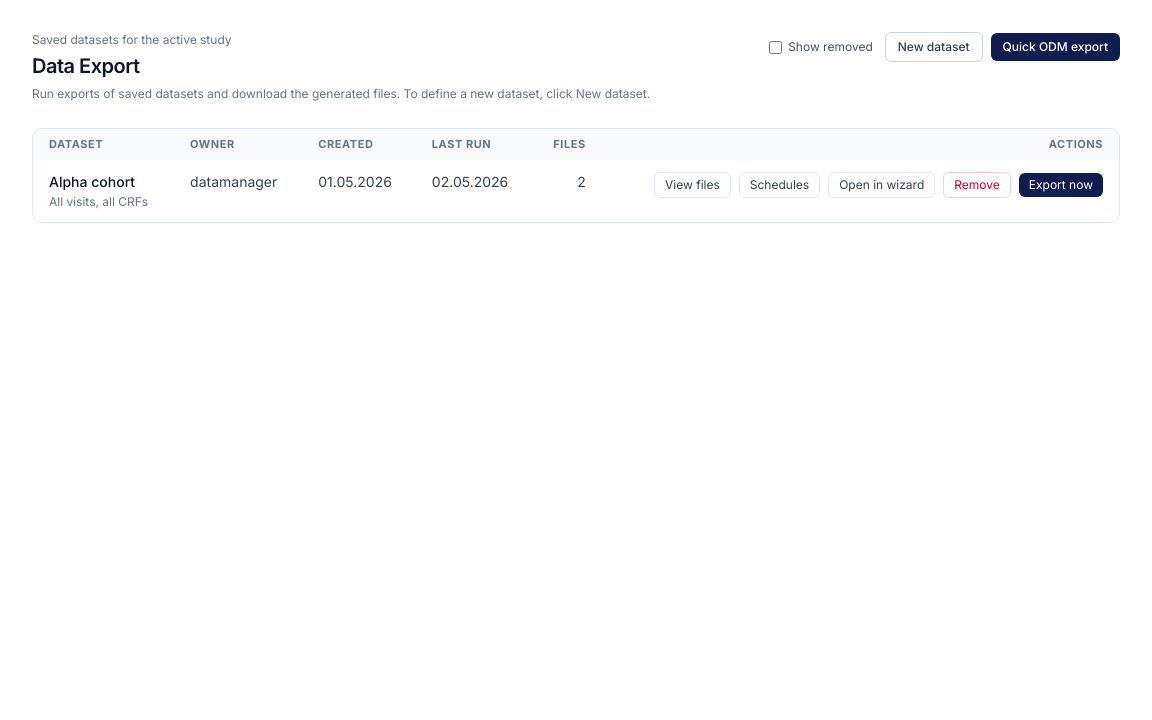
it: DatasetListView — bundle export (P3.8) › offers the bundle where the study enables it and queues a job on submit
What coordinates should you click on to do the following:
click the button with test id "dataset-export-now"
I would click on:
 (1061, 185)
Its box is [1019,173,1103,197].
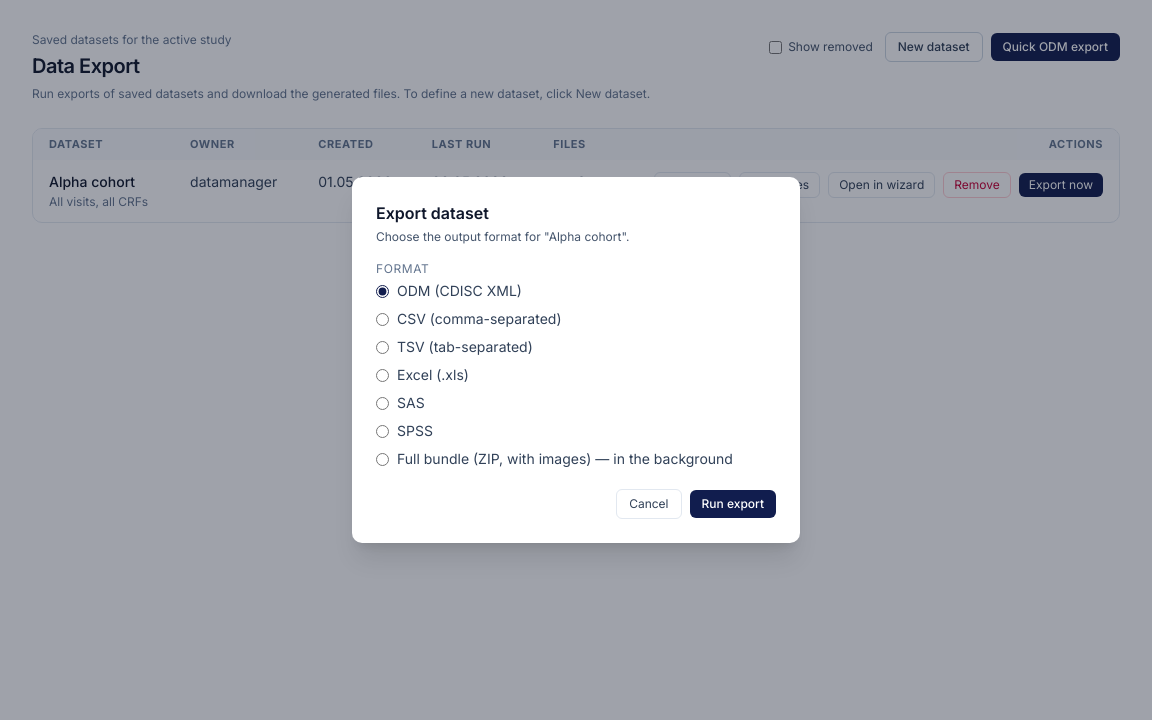
What coordinates should you click on to do the following:
click the radio button labelled "Full bundle (ZIP, with images) — in the background"
I would click on:
 (382, 459)
Its box is [376,452,389,466].
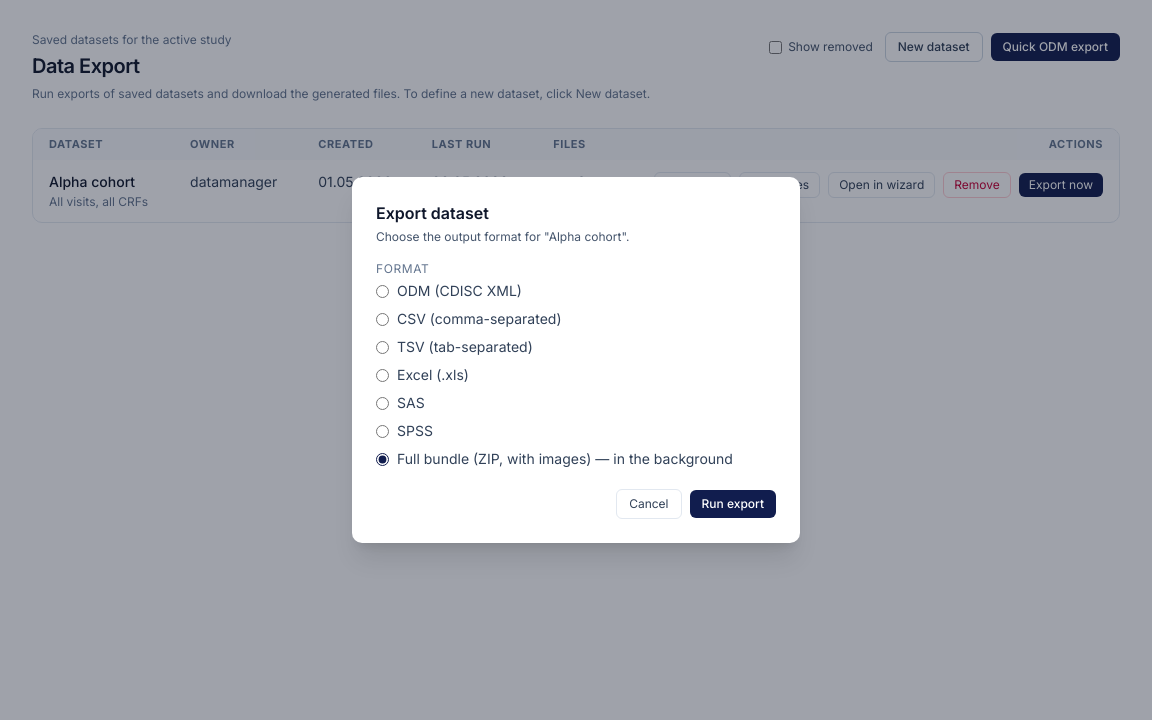
What coordinates should you click on to do the following:
click the button "Run export"
I would click on:
 (733, 504)
Its box is [690,490,776,518].
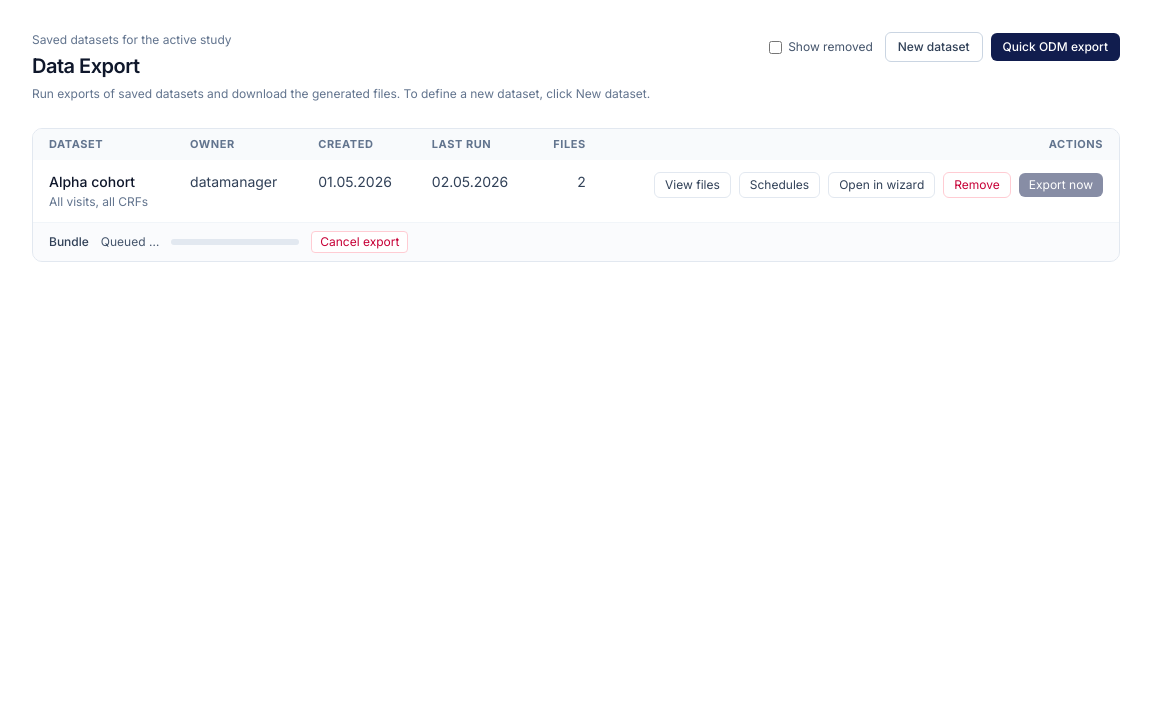
Expected: the row with test id "bundle-job-11" shows "Queued …", [101,234,159,249]
Expected: the button with test id "dataset-export-now" is disabled, [1019,173,1103,197]
